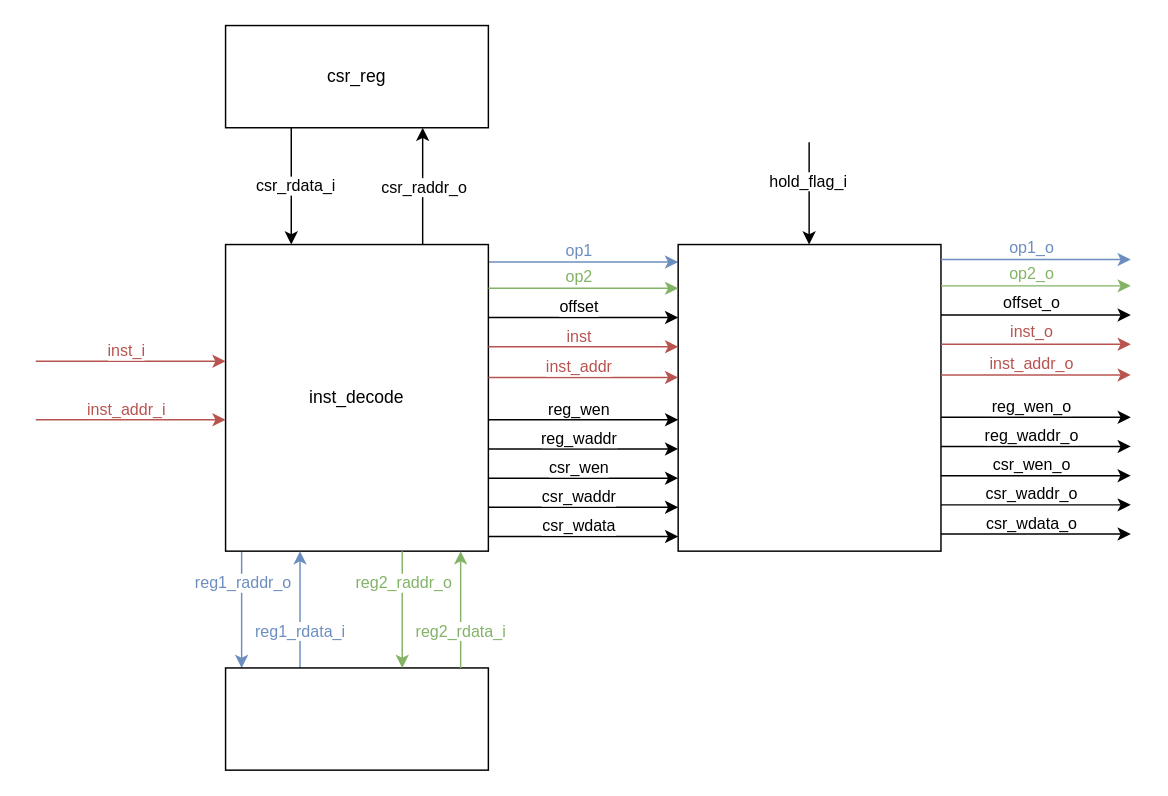
Some shapes in this 1168 by 796 pixel diagram are drawn without their labels. Here are the shapes that lost their labels. From the top down, the box of each, then its label:
(677, 243, 941, 551): id_to_ex
(224, 666, 488, 770): gp_reg
